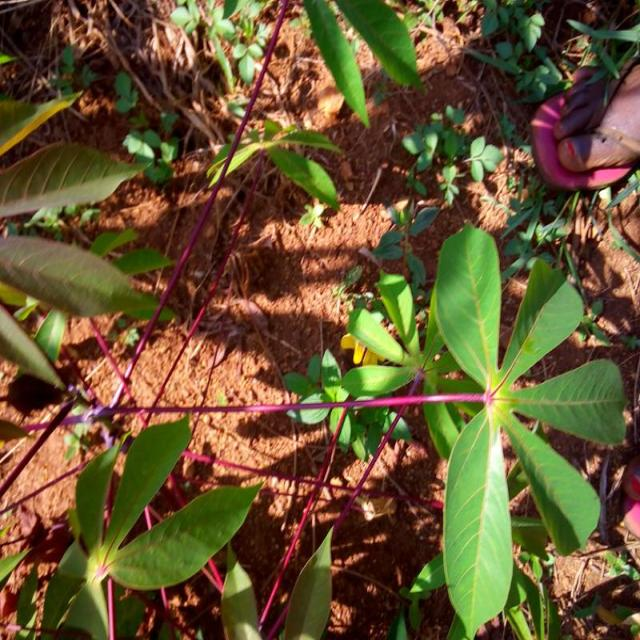cassava leaf: (286, 220, 628, 637), (442, 404, 514, 638), (2, 234, 176, 323), (434, 221, 504, 390)
